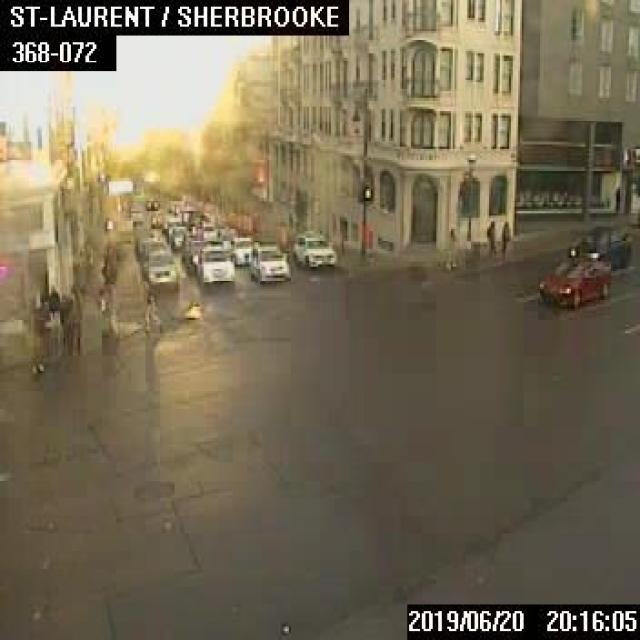construction: (246, 216, 252, 231), (241, 214, 245, 230), (235, 214, 239, 228)
pedestrian: (25, 298, 42, 369), (67, 283, 82, 353), (98, 275, 116, 333), (46, 284, 60, 345), (142, 282, 156, 332), (446, 224, 458, 269), (486, 218, 496, 253), (500, 220, 510, 253)
vehicle: (536, 251, 608, 304), (567, 225, 629, 265), (191, 244, 234, 282), (292, 229, 334, 267), (140, 248, 177, 288), (249, 244, 289, 280), (186, 238, 212, 270), (228, 235, 255, 264), (140, 238, 168, 264), (168, 224, 188, 247), (217, 224, 237, 246), (198, 222, 216, 240), (144, 196, 158, 210)
